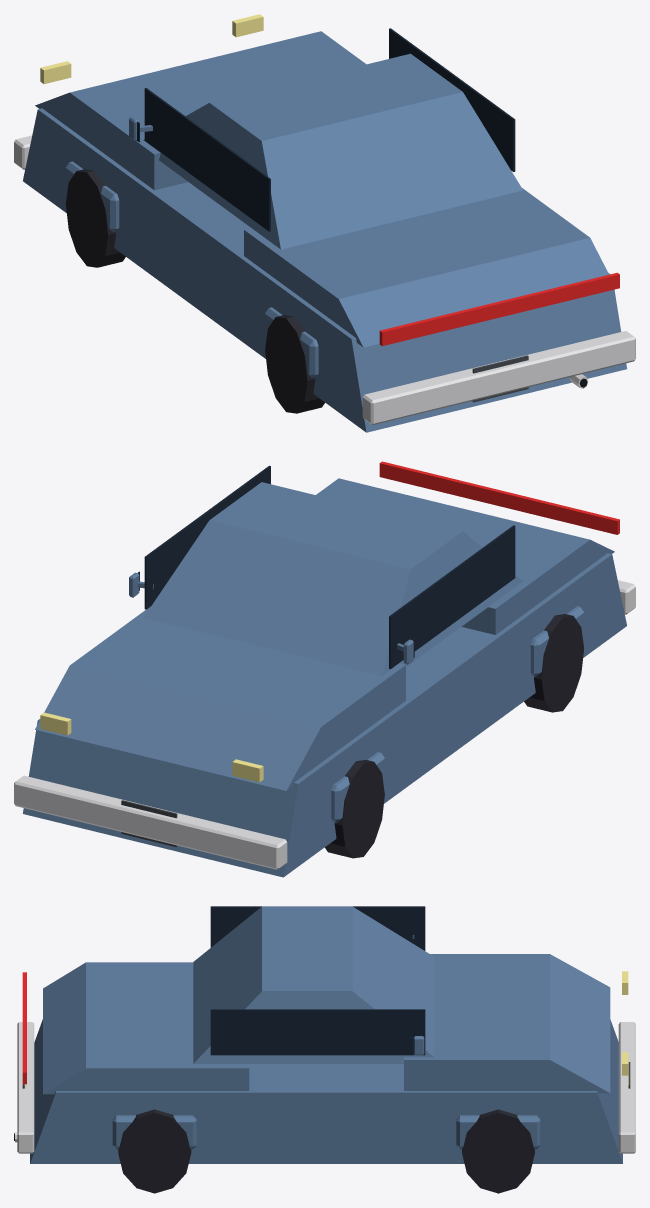
Rendered from civilian_family_sedan.fbx.
3 views of the same model, one above another, from view 1: azimuth 30°, elevation 25°; view 2: azimuth 150°, elevation 25°; view 3: azimuth 270°, elevation 25° (orthographic). The views are drawn at different scales.
Visible parts, largest first — view 1: civilian_family_sedan; view 2: civilian_family_sedan; view 3: civilian_family_sedan.
Boxes of the visible parts, x1=… form: civilian_family_sedan: x1=14, y1=14, x2=635, y2=432; civilian_family_sedan: x1=14, y1=461, x2=635, y2=877; civilian_family_sedan: x1=14, y1=906, x2=635, y2=1193.
Size of the model in its own units: 650 by 480 by 1450.
